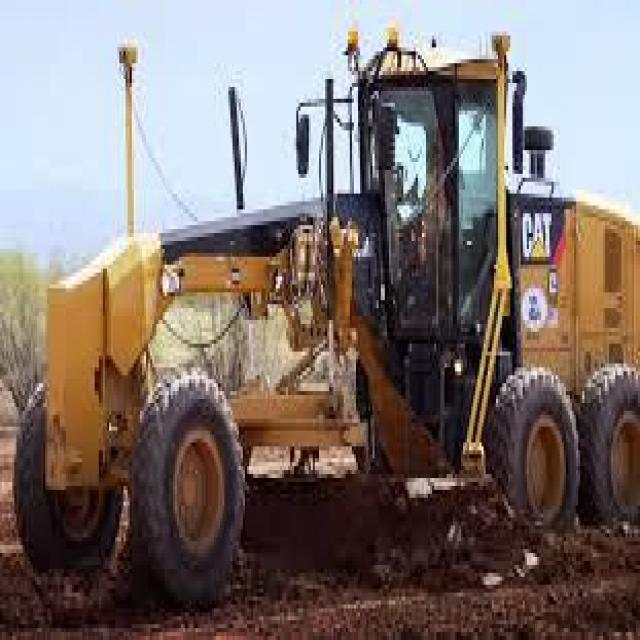Grader: (23, 8, 638, 596)
